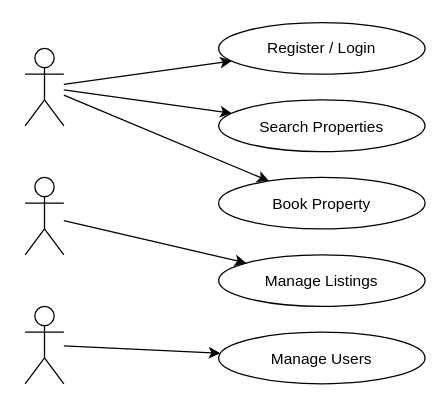
Some shapes in this 448 by 406 pixel diagram are drawn without their labels. Each missing label, with the centre of its shape:
Admin: point (44, 344)
Guest: point (44, 86)
Host: point (44, 215)
